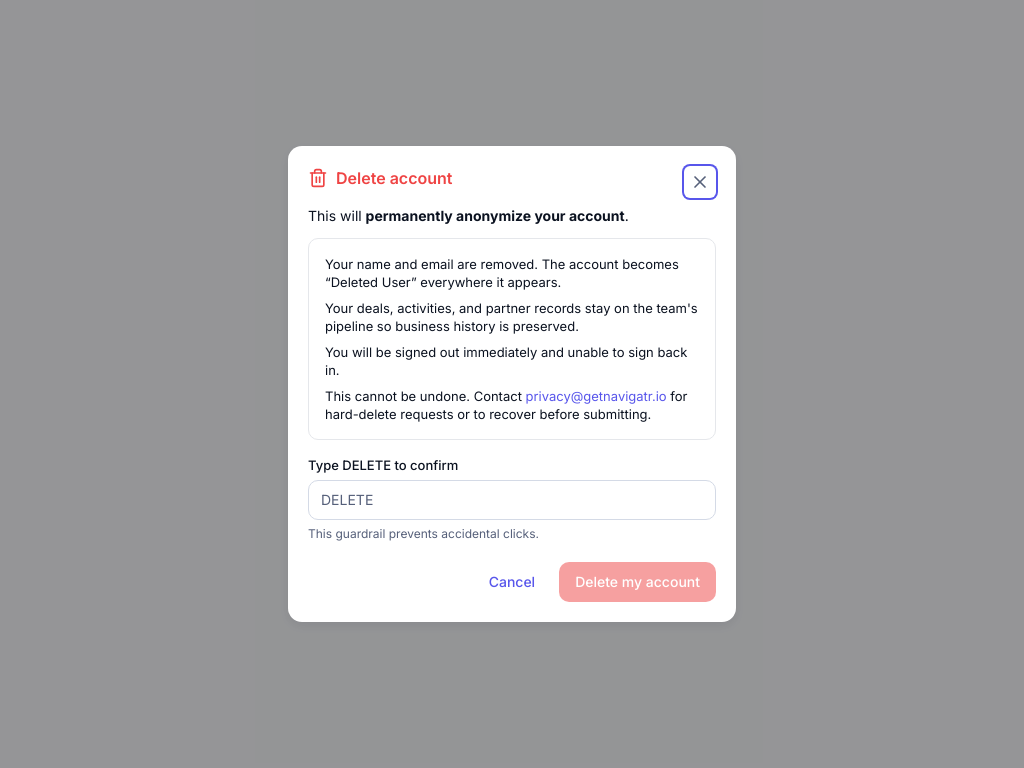
Test: DeleteAccountDialog › disables the delete button until the user types DELETE
expect the button "Delete my account" is disabled: met, box x1=559 y1=562 x2=716 y2=602
Type "delete" into the field labelled "Type DELETE to confirm" at point(512, 500), box x1=321 y1=490 x2=703 y2=510
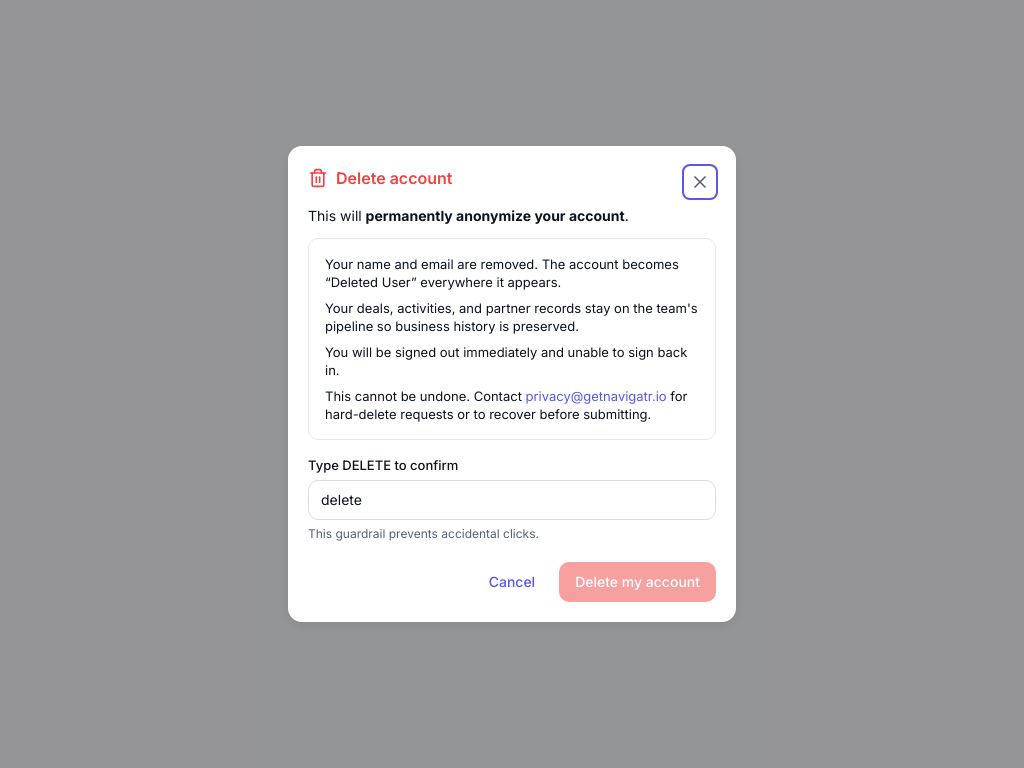
expect the button "Delete my account" is disabled: met, box x1=559 y1=562 x2=716 y2=602
Replace the text in the field labelled "Type DELETE to confirm" with "DELET" at point(512, 500), box x1=321 y1=490 x2=703 y2=510
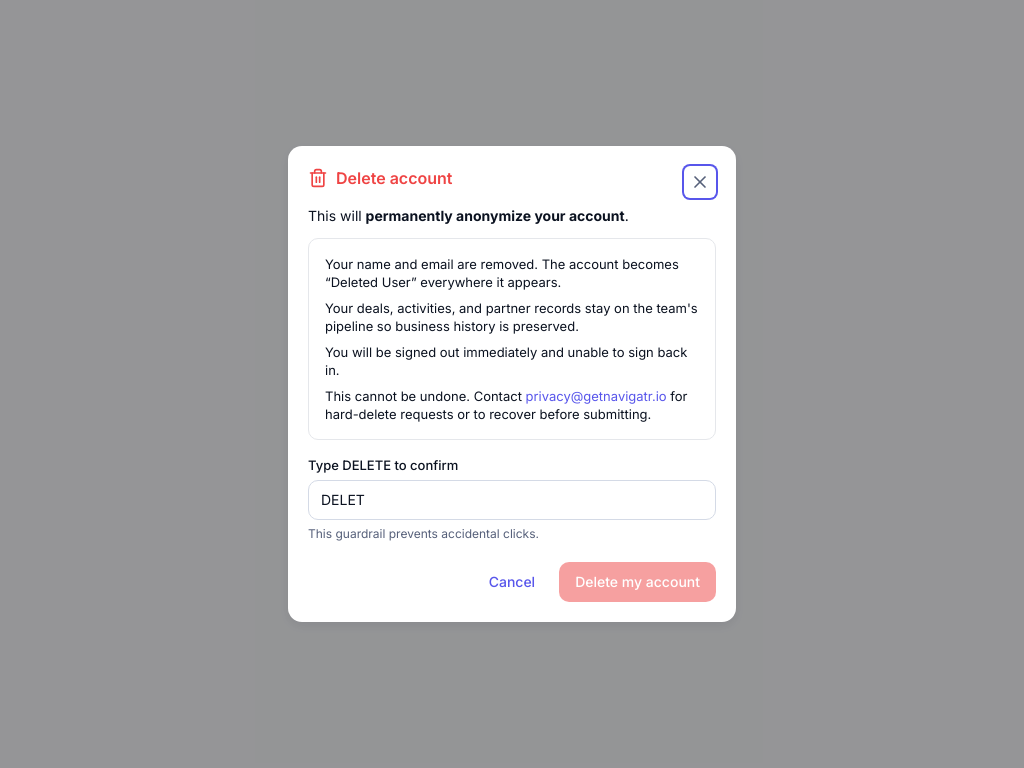
expect the button "Delete my account" is disabled: met, box x1=559 y1=562 x2=716 y2=602
Replace the text in the field labelled "Type DELETE to confirm" with "DELETE" at point(512, 500), box x1=321 y1=490 x2=703 y2=510
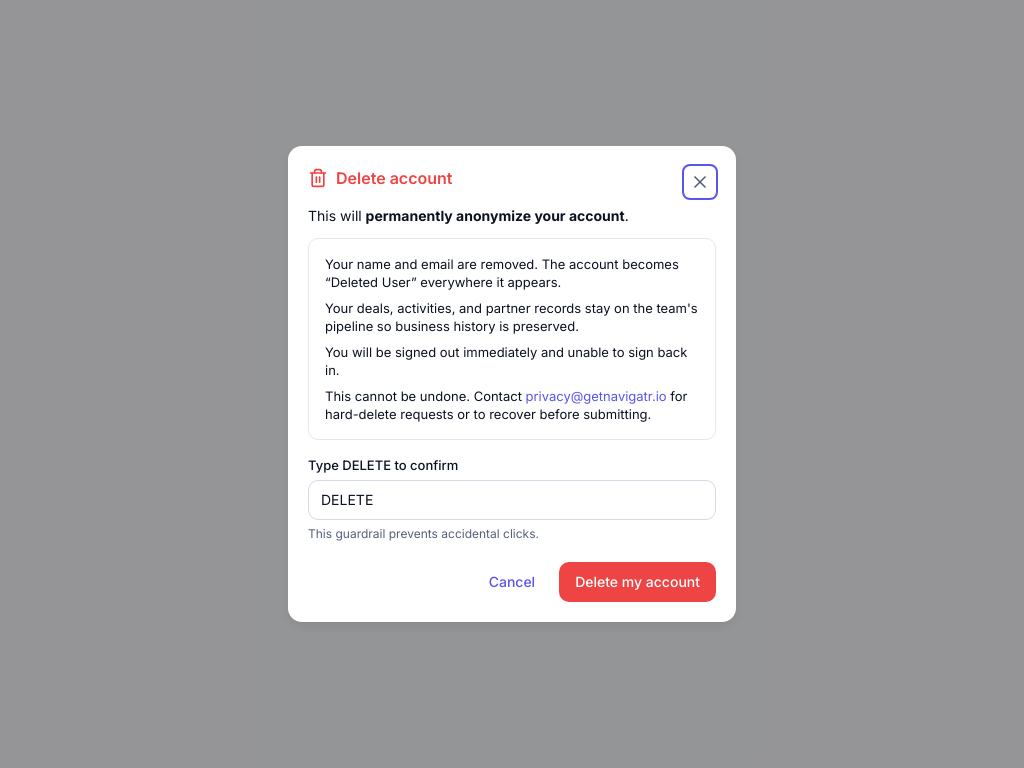
expect the button "Delete my account" is enabled: met, box x1=559 y1=562 x2=716 y2=602
